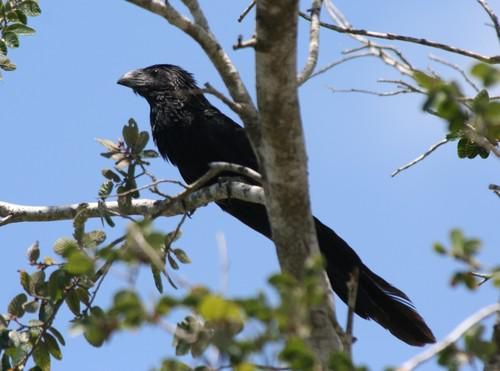004.Groove_billed_Ani: (118, 63, 436, 347)
